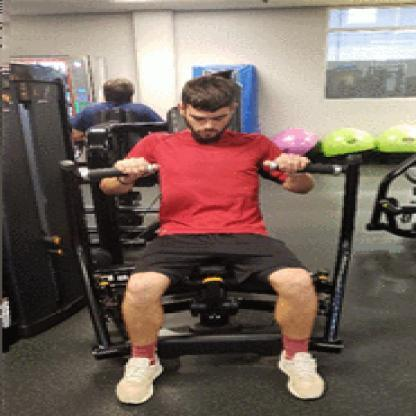Chest Press machine: (2, 51, 382, 416)
